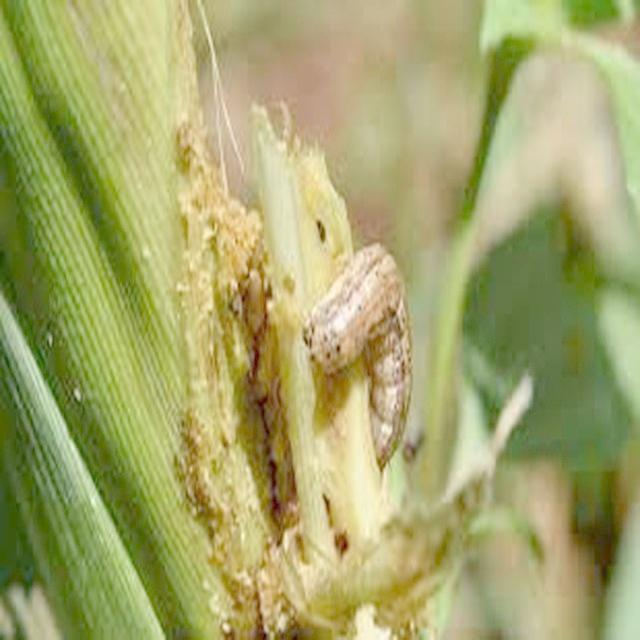gusano_cogollero: (306, 238, 412, 472)
